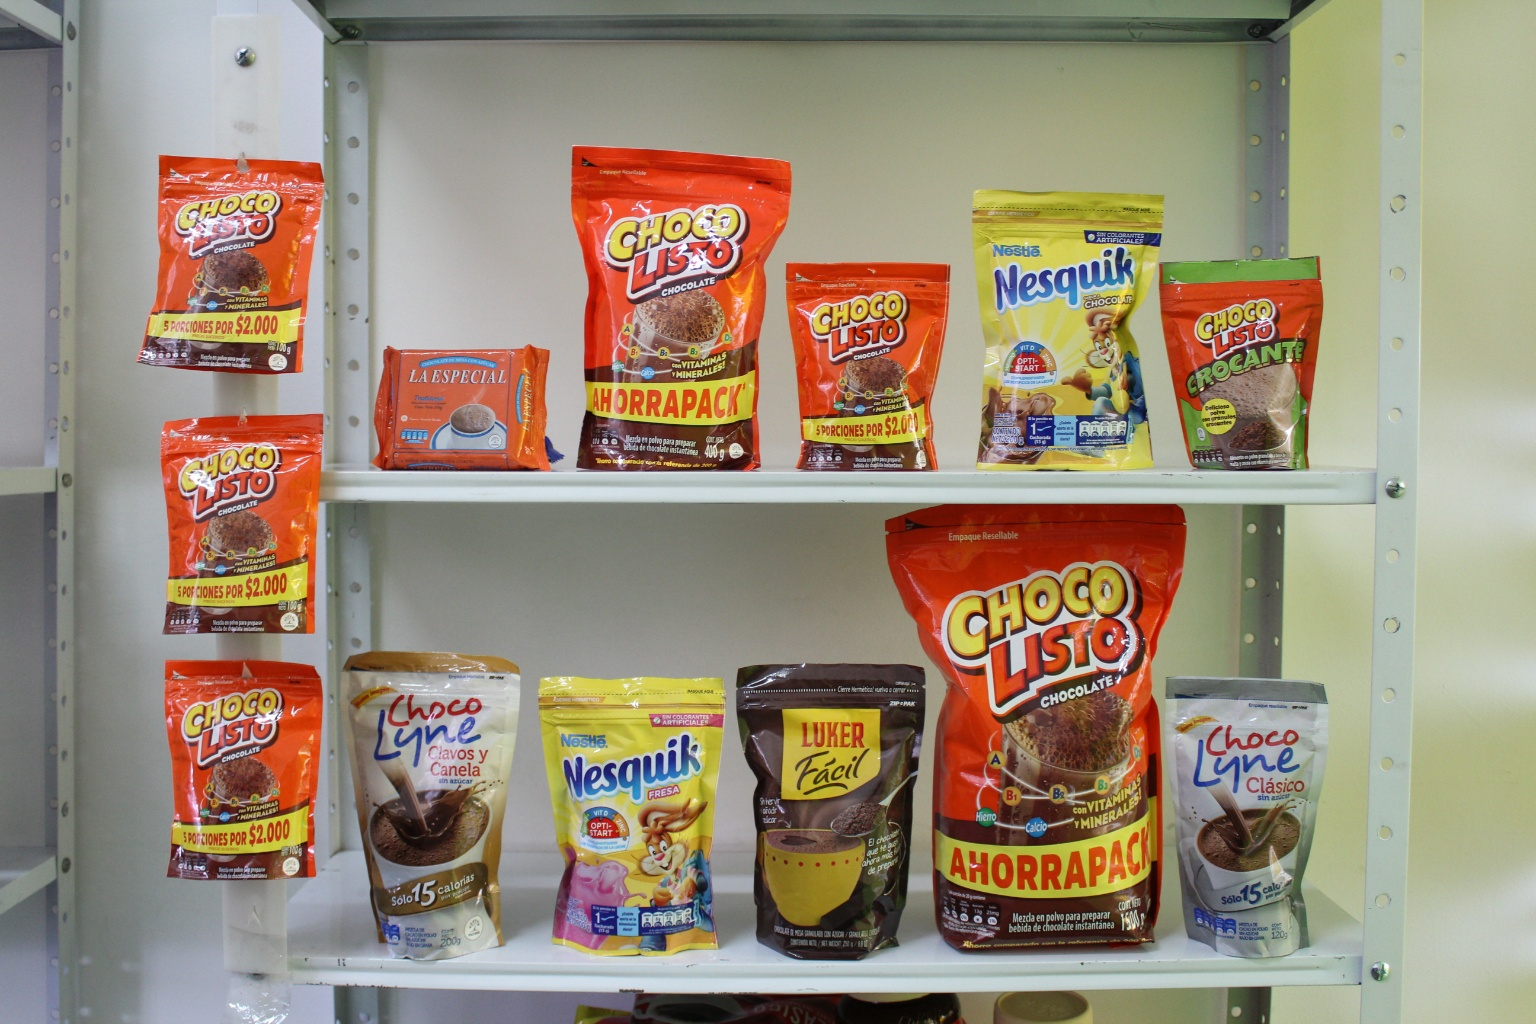COL0170102DYP10000: (1161, 251, 1323, 469)
COL0170103DYP1,500: (886, 497, 1193, 963)
COL0170103DYP10000: (141, 142, 328, 386)
COL0170103DYP40000: (560, 130, 784, 472)
COL0170303DYP20000: (960, 179, 1181, 474)
COL0170305DYP20000: (537, 671, 736, 955)
